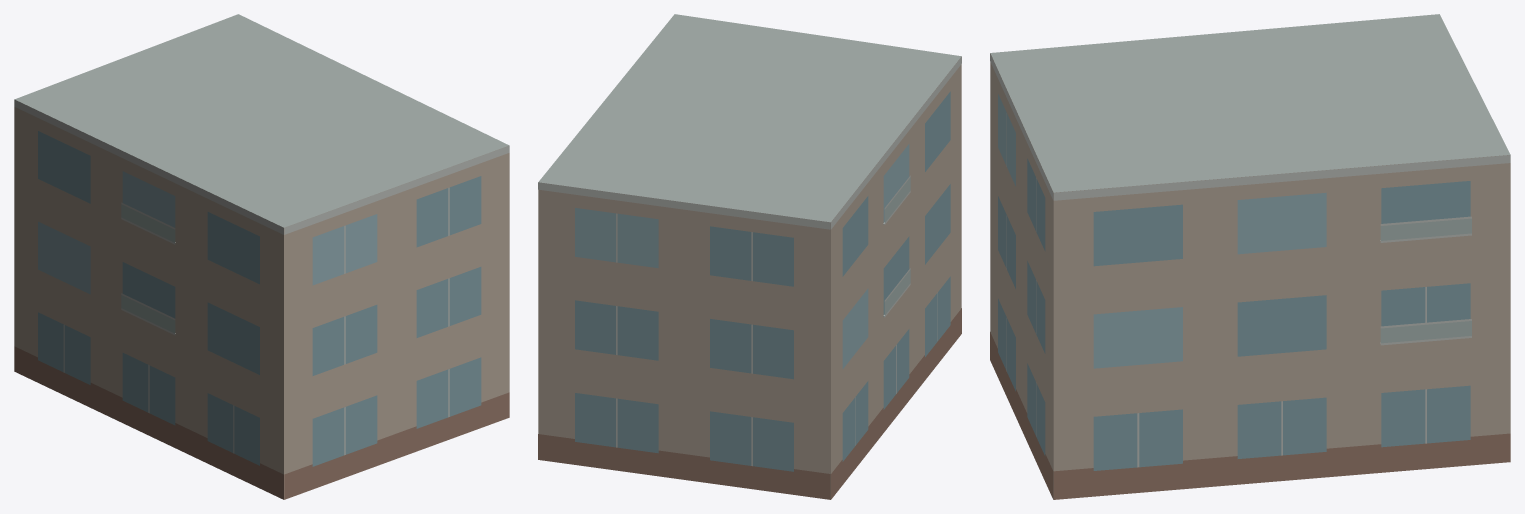
File: survey-upis-32646362.glb
The picture shows the model from 3 angles, left to right: view 1: azimuth 30°, elevation 25°; view 2: azimuth 150°, elevation 25°; view 3: azimuth 270°, elevation 25°; orthographic projection. The views are drawn at different scales.
Visible parts, largest first — view 1: survey-upis-32646362.tmp; view 2: survey-upis-32646362.tmp; view 3: survey-upis-32646362.tmp.
Part boxes in pixels (<box>): survey-upis-32646362.tmp: <box>14,14,509,499</box>; survey-upis-32646362.tmp: <box>538,14,961,499</box>; survey-upis-32646362.tmp: <box>990,14,1510,499</box>.
Bounding box in the file's own units: 11.42 × 9.15 × 14.06.
